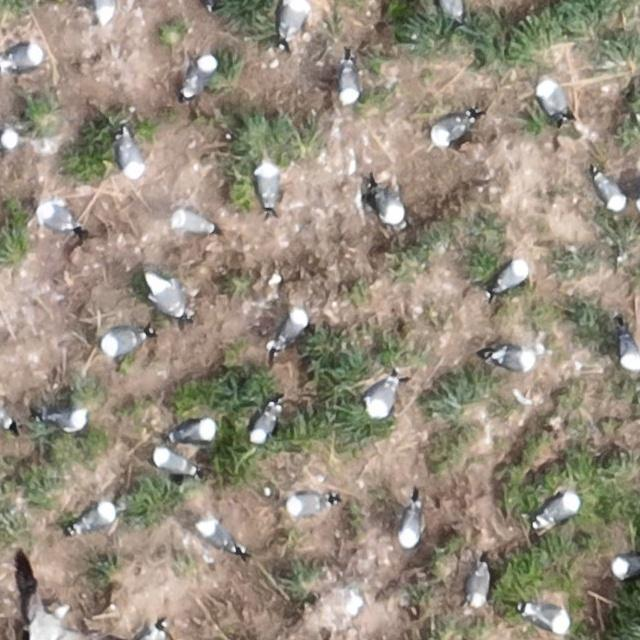F: (22, 569, 98, 639)
umineko: (150, 276, 184, 314), (540, 494, 578, 522), (278, 307, 308, 342), (77, 503, 116, 529), (528, 607, 570, 631), (185, 58, 213, 94), (432, 115, 469, 142), (202, 525, 239, 552), (366, 384, 397, 416), (281, 1, 308, 37), (102, 330, 142, 354), (496, 260, 529, 289), (599, 177, 627, 211), (175, 213, 216, 236), (257, 165, 279, 207), (540, 85, 568, 118), (119, 138, 142, 178), (40, 208, 78, 232), (380, 192, 406, 227), (494, 348, 537, 369), (6, 45, 44, 68), (468, 566, 489, 606), (339, 64, 359, 104), (400, 509, 421, 547), (155, 450, 191, 472), (288, 496, 327, 516), (49, 409, 86, 430), (177, 419, 214, 440), (619, 331, 639, 368), (252, 410, 274, 442), (612, 555, 640, 576), (440, 1, 464, 21), (94, 1, 114, 24), (0, 404, 13, 429)
